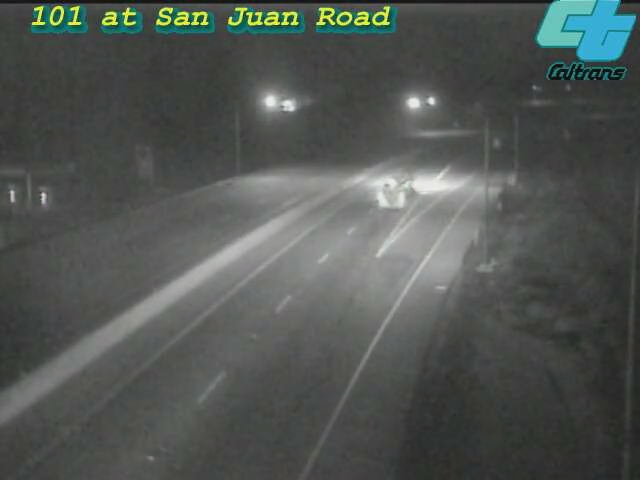vehicle: (356, 151, 436, 231)
